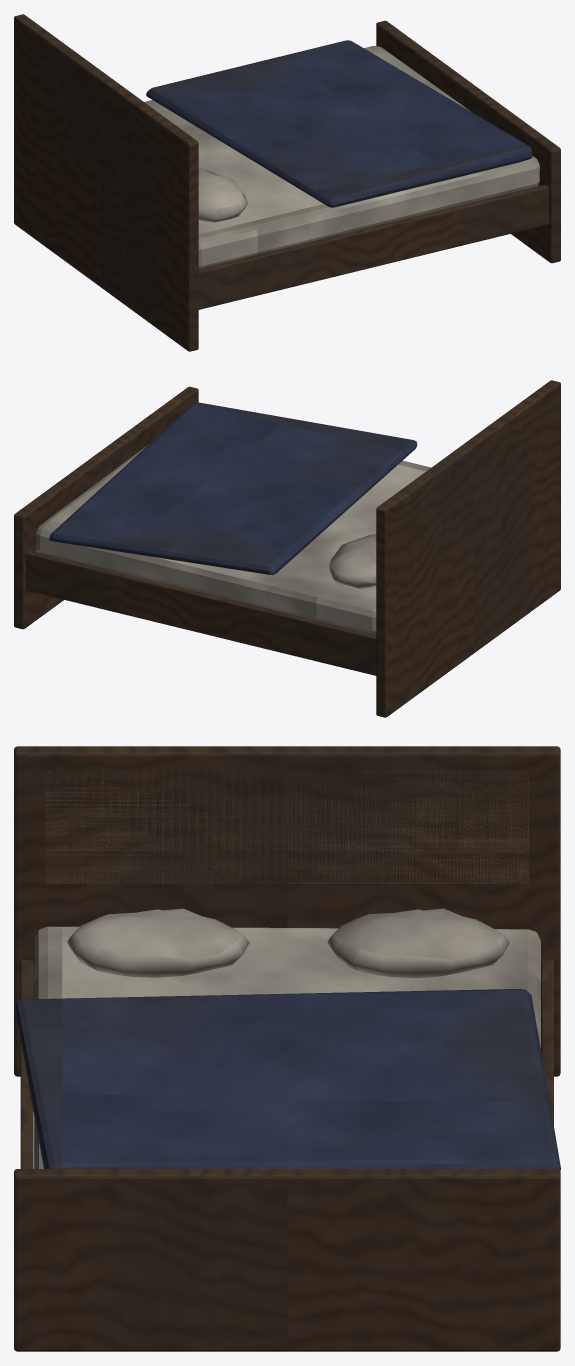
The model's file is B01_double_bed_v2.glb.
3 renders of one model, top to bottom at view 1: azimuth 30°, elevation 25°; view 2: azimuth 150°, elevation 25°; view 3: azimuth 270°, elevation 25°, orthographic. The views are drawn at different scales.
Parts seen in each view (by area): view 1: B01_double_bed_v2; view 2: B01_double_bed_v2; view 3: B01_double_bed_v2.
Part boxes in pixels (bbox=[...]): B01_double_bed_v2: bbox=[14, 14, 560, 351]; B01_double_bed_v2: bbox=[14, 380, 560, 717]; B01_double_bed_v2: bbox=[14, 746, 560, 1351].
Size of the model in its own units: 2 by 1.07 by 1.63.
4 materials, 4 textured.
